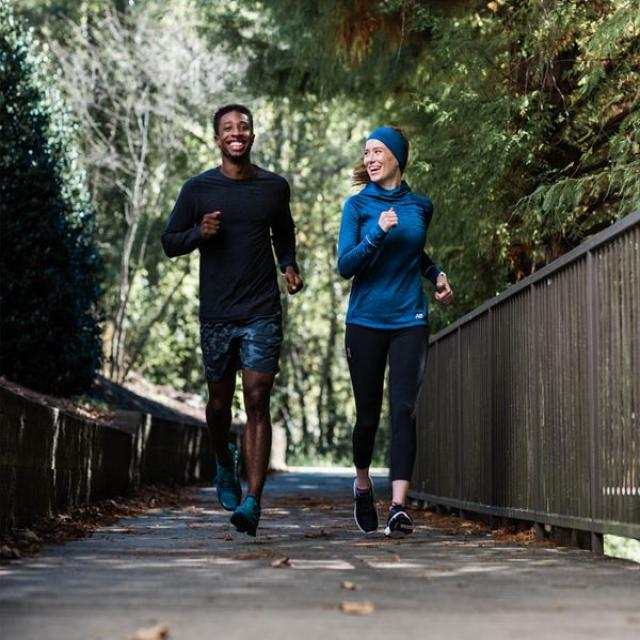Person: (163, 104, 304, 536), (339, 127, 454, 534)
